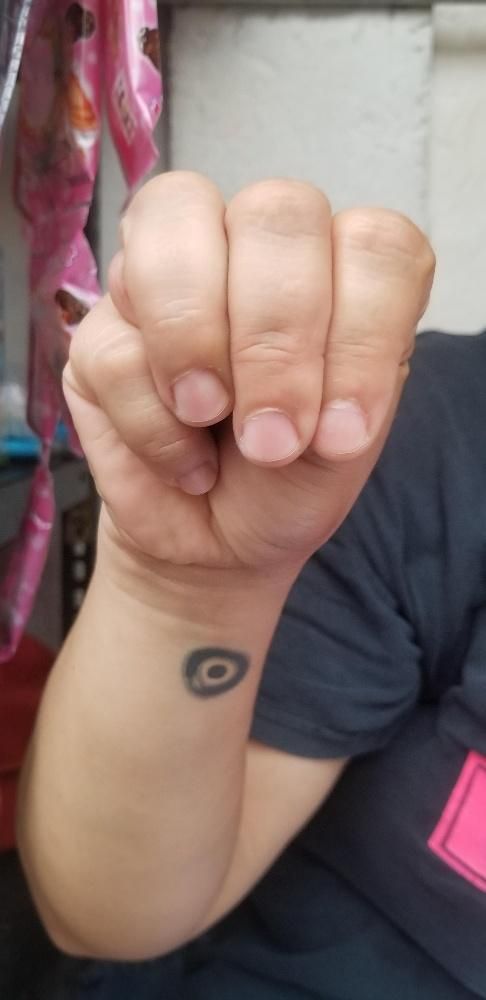m: (59, 169, 436, 562)
